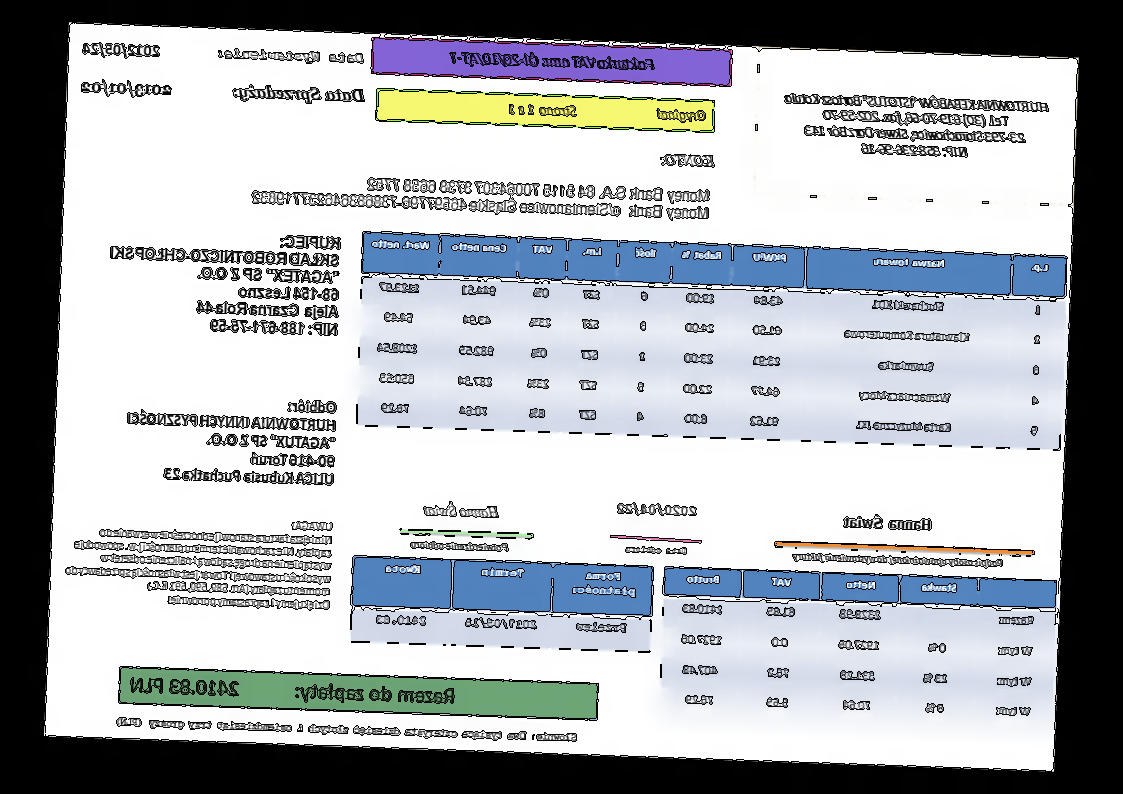Table: (354, 230, 1069, 452), (656, 563, 1060, 733), (350, 554, 655, 654)
TextBox: (61, 508, 336, 613), (106, 225, 344, 339), (249, 167, 713, 223), (123, 390, 340, 489), (780, 90, 1051, 164), (114, 713, 579, 747), (127, 671, 458, 709), (505, 99, 710, 127), (444, 48, 659, 73), (788, 548, 1006, 570), (230, 81, 367, 109), (215, 45, 368, 68), (75, 77, 173, 101), (840, 511, 936, 533), (614, 498, 701, 522), (78, 39, 164, 62), (420, 499, 502, 521), (408, 538, 513, 555), (657, 148, 718, 170), (623, 541, 689, 556)
